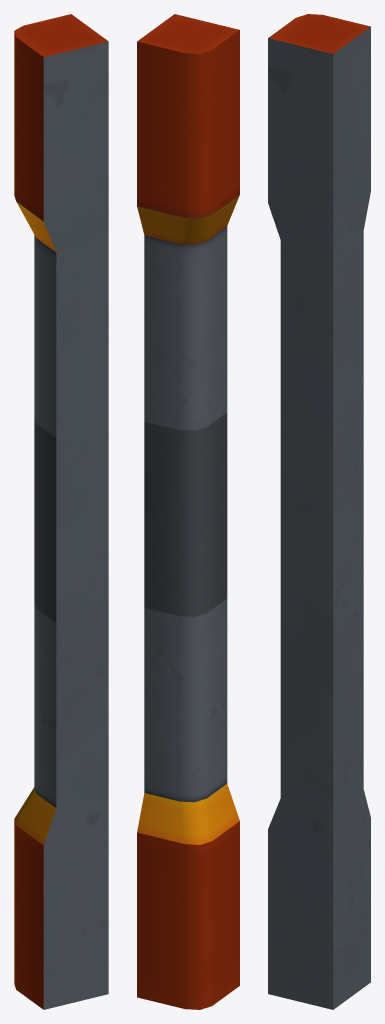
The model's file is obj_factory_building_collumn_02.fbx.
3 views of the same model, side by side, from view 1: azimuth 30°, elevation 25°; view 2: azimuth 150°, elevation 25°; view 3: azimuth 330°, elevation 25° (orthographic).
Parts seen in each view (by area): view 1: obj_factory_building_collumn_02_lp; view 2: obj_factory_building_collumn_02_lp; view 3: obj_factory_building_collumn_02_lp.
Boxes of the visible parts, left/top/right/bottom form: obj_factory_building_collumn_02_lp: left=14, top=14, right=108, bottom=1009; obj_factory_building_collumn_02_lp: left=137, top=14, right=239, bottom=1009; obj_factory_building_collumn_02_lp: left=268, top=14, right=370, bottom=1009.
Bounding box in the file's own units: 1 × 14 × 1.
